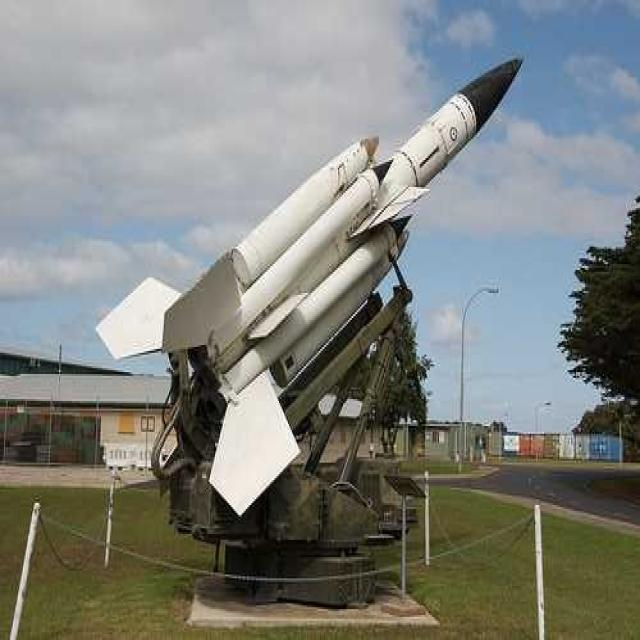missile: (102, 48, 526, 525)
